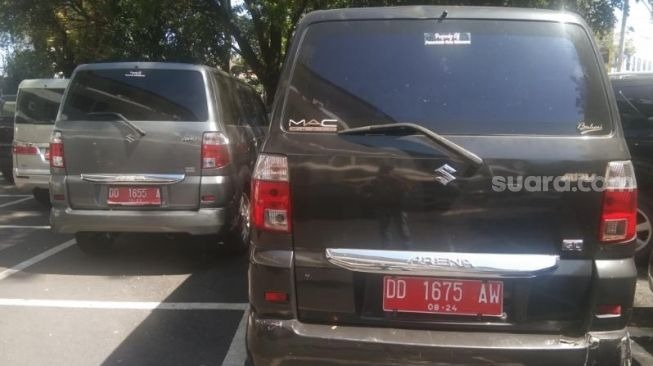plat nomor: (381, 274, 505, 317)
